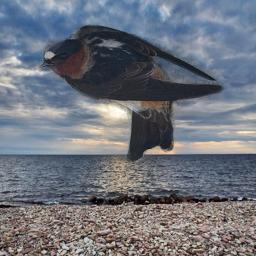Swallow: (38, 22, 226, 162)
